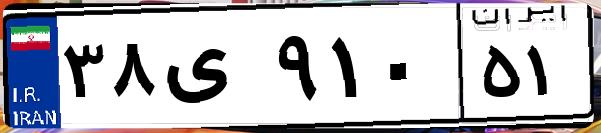0: (385, 28, 445, 110)
1: (330, 28, 385, 110), (525, 38, 570, 115)
3: (57, 26, 110, 100)
5: (475, 38, 525, 113)
8: (110, 28, 158, 98)
9: (270, 28, 330, 110)
ی: (158, 20, 270, 120)
